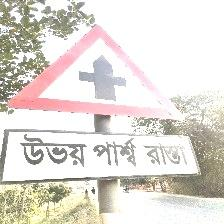Crossroad: (2, 23, 194, 180)
